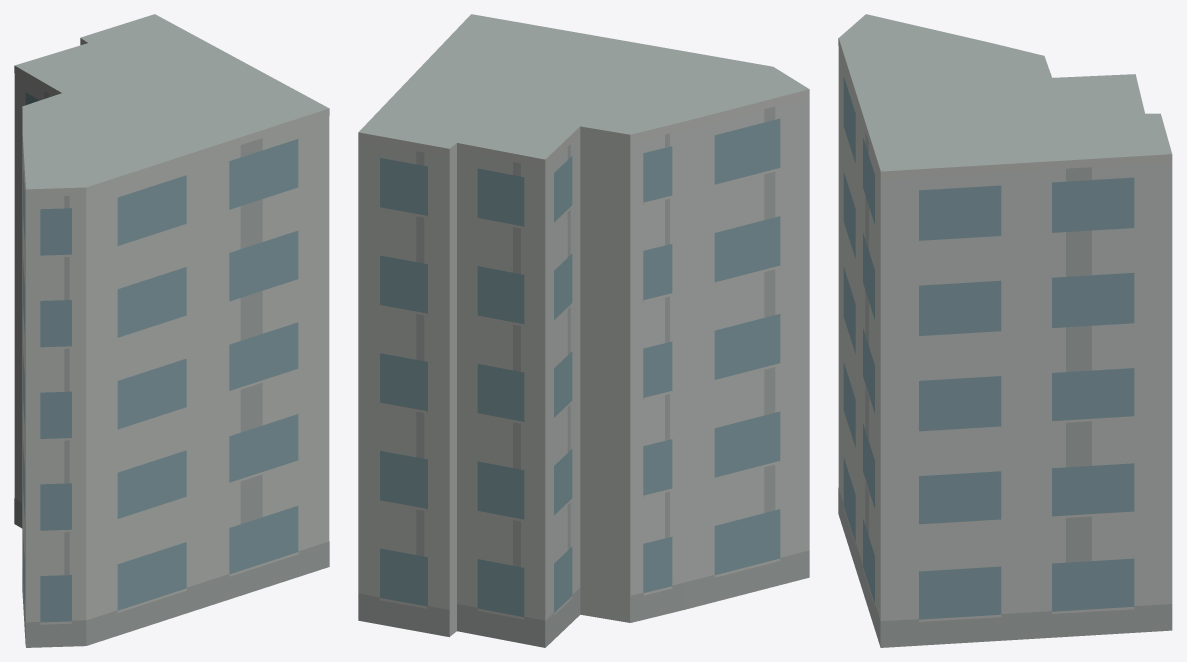
The model's file is survey-upis-32626727.glb.
The picture shows the model from 3 angles, left to right: view 1: azimuth 30°, elevation 25°; view 2: azimuth 150°, elevation 25°; view 3: azimuth 270°, elevation 25°; orthographic projection. The views are drawn at different scales.
Visible parts, largest first — view 1: survey-upis-32626727.tmp; view 2: survey-upis-32626727.tmp; view 3: survey-upis-32626727.tmp.
Part boxes in pixels (bbox=[...]): survey-upis-32626727.tmp: bbox=[14, 14, 329, 647]; survey-upis-32626727.tmp: bbox=[358, 14, 809, 647]; survey-upis-32626727.tmp: bbox=[838, 14, 1172, 647].
Bounding box in the file's own units: 10.08 × 14.2 × 9.02.
